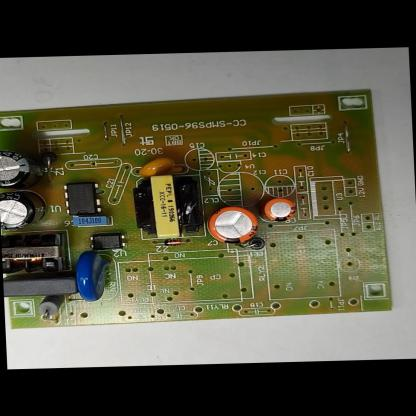Cap1: (207, 207, 260, 244)
Cap2: (263, 196, 296, 224)
Cap3: (0, 191, 50, 233)
Cap4: (0, 148, 44, 189)
MOSFET: (62, 180, 102, 216)
Mov: (73, 250, 114, 302)
Resistor: (34, 295, 70, 320)
Transformer: (131, 172, 202, 236), (1, 232, 64, 274)
